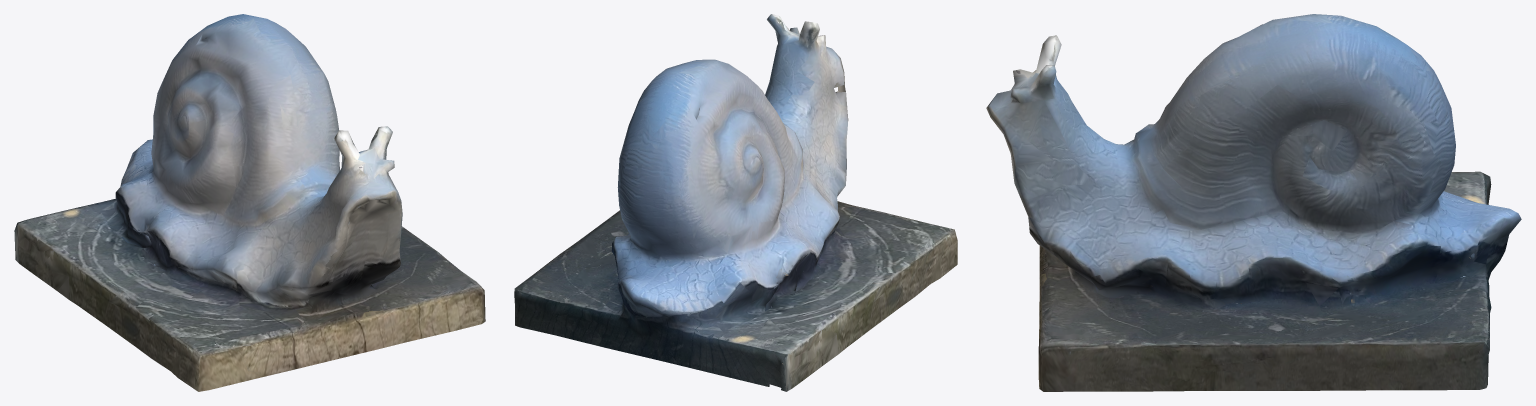
The model's file is S022_MaritimeSnail.glb.
3 renders of one model, left to right at view 1: azimuth 30°, elevation 25°; view 2: azimuth 150°, elevation 25°; view 3: azimuth 270°, elevation 25°, orthographic. The views are drawn at different scales.
Parts seen in each view (by area): view 1: S022_RETOPO; view 2: S022_RETOPO; view 3: S022_RETOPO.
Part boxes in pixels (box(x1,y1,x2,y2)): S022_RETOPO: box(14, 14, 485, 391); S022_RETOPO: box(514, 14, 957, 391); S022_RETOPO: box(986, 14, 1521, 391).
Size of the model in its own units: 2.48 by 1.99 by 3.22.
1 material, 1 textured.
